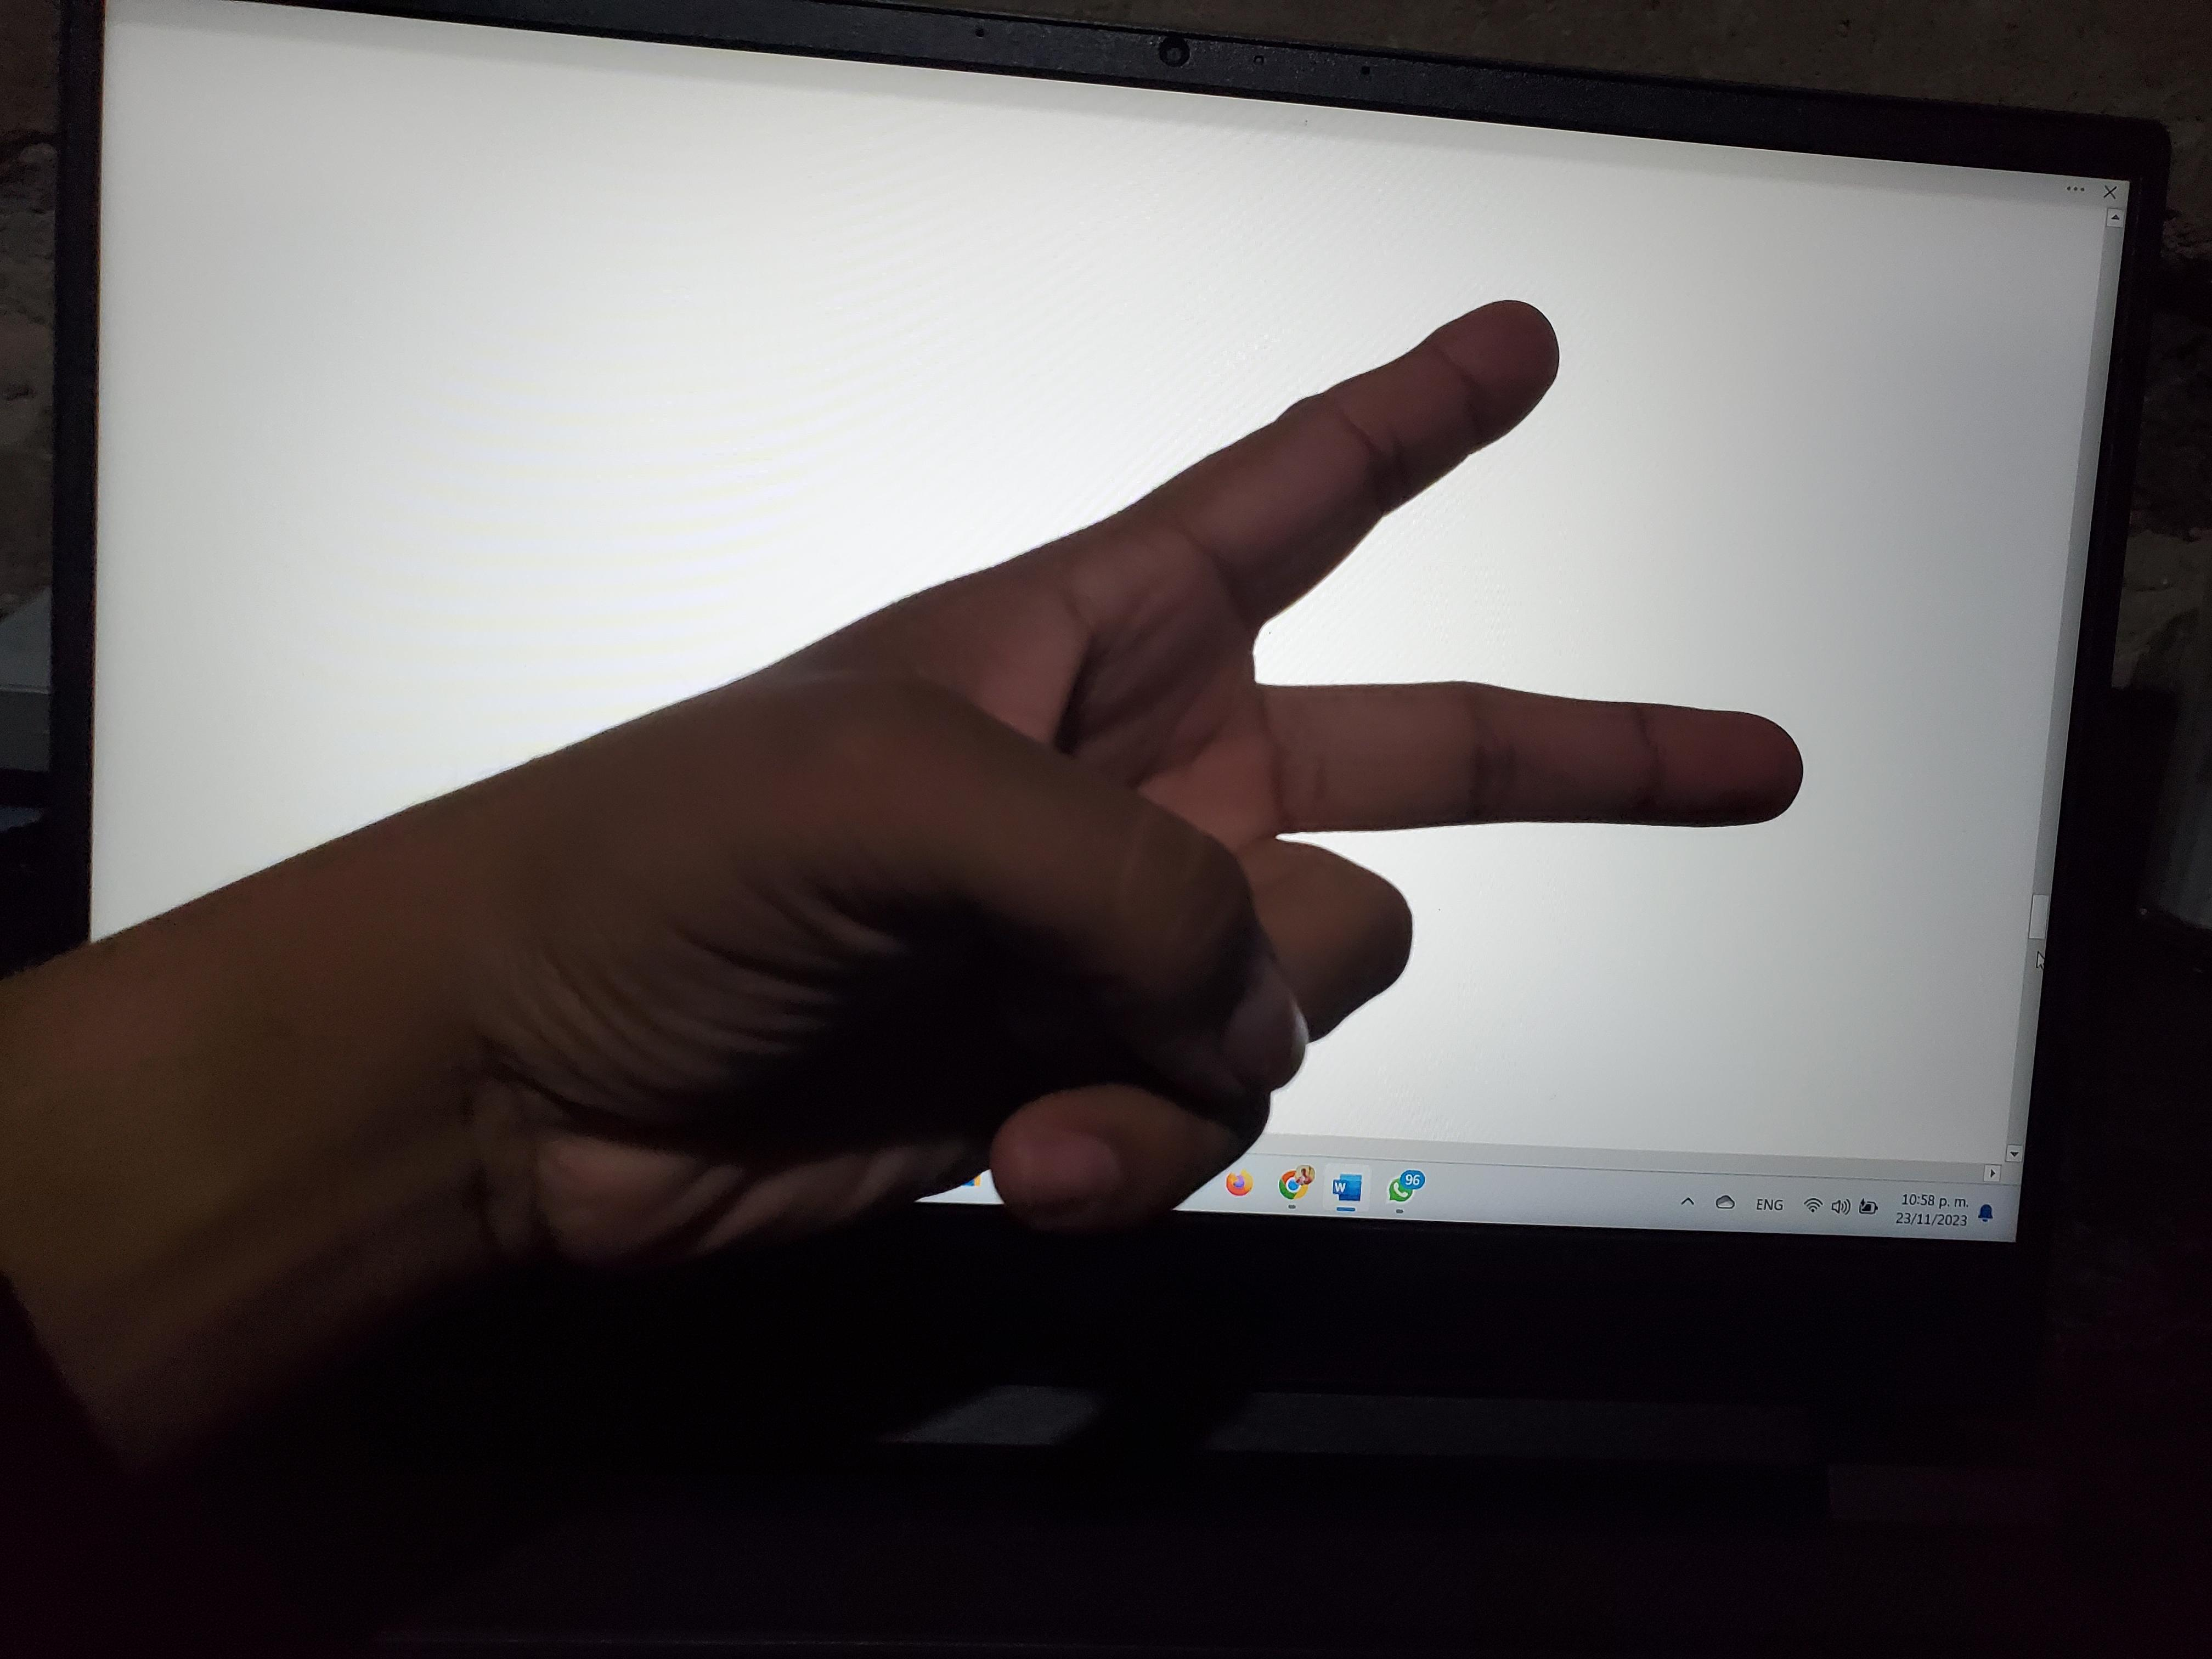Scissor: (89, 177, 1923, 1417)
